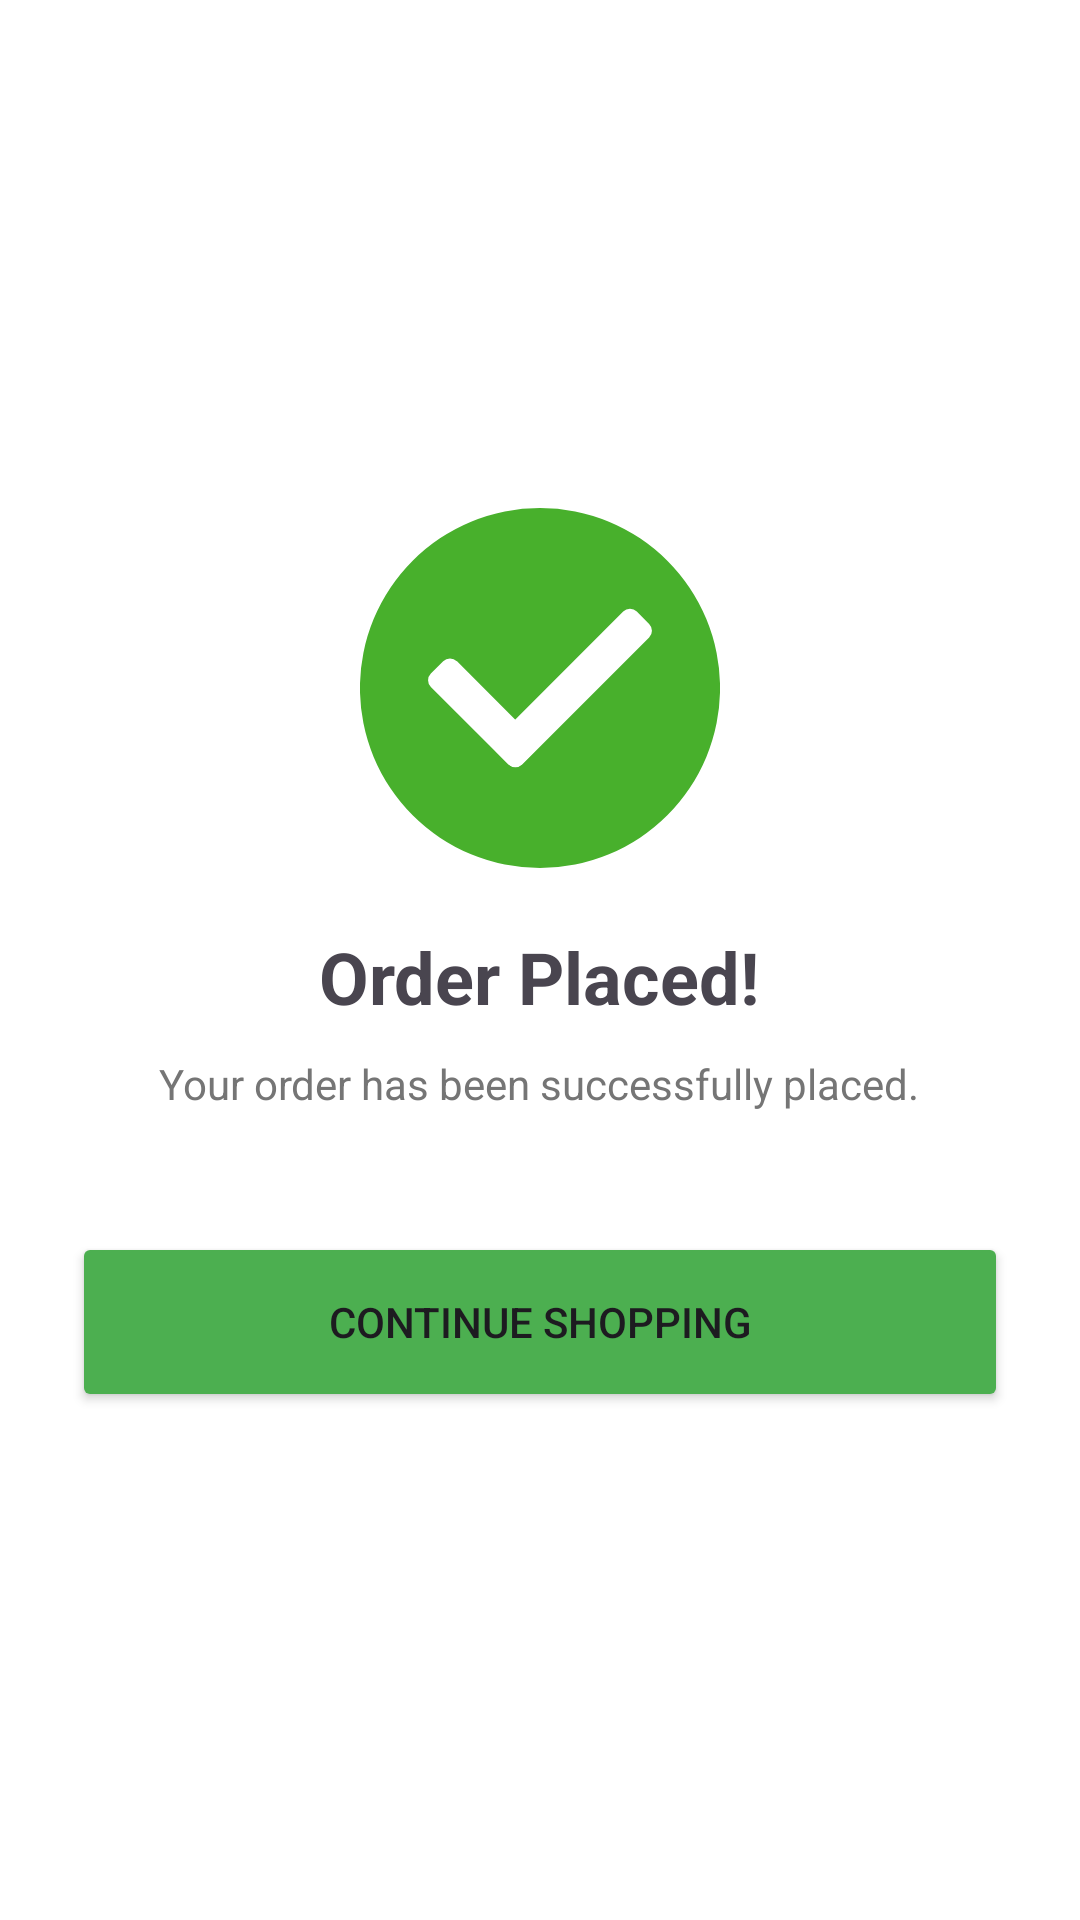

Screen size 1080 × 1920. Icon name, then its box in pixels as detection(x1, y1, x2, y2):
check circle: detection(360, 508, 720, 868)
